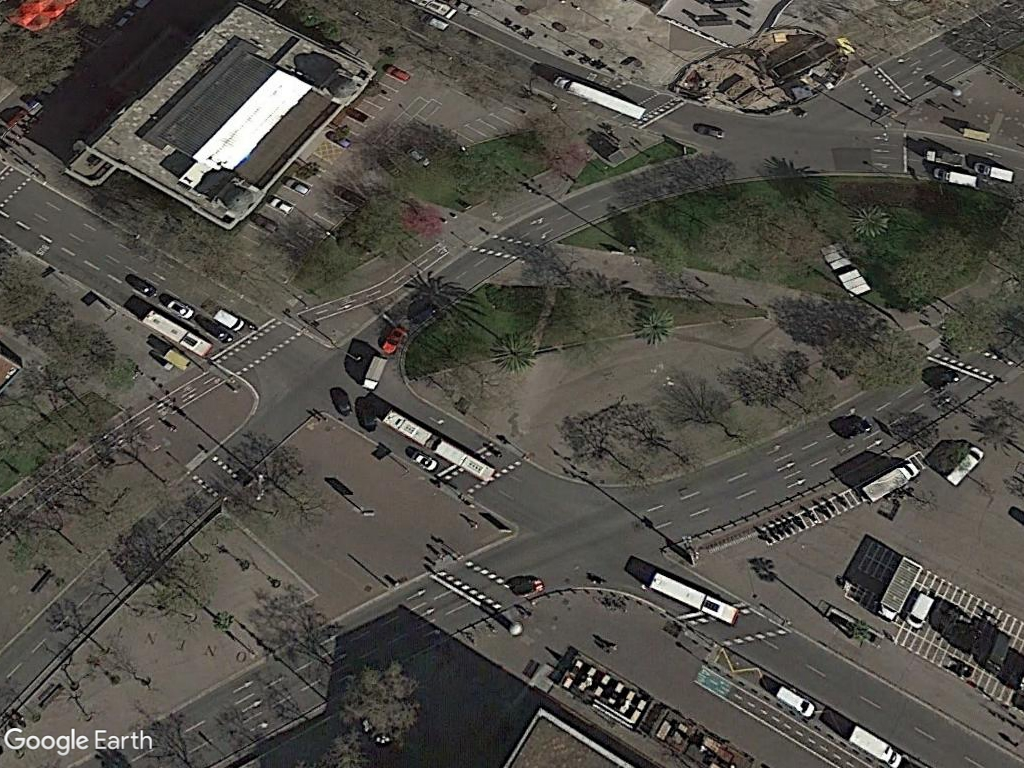bus: (645, 566, 743, 627), (136, 306, 215, 359)
longvehicle: (551, 70, 648, 125)
truck: (840, 716, 903, 768), (858, 455, 923, 504), (937, 436, 988, 489), (914, 142, 969, 170), (358, 352, 390, 392), (974, 156, 1016, 184)
van: (767, 677, 817, 725), (208, 304, 246, 333)
